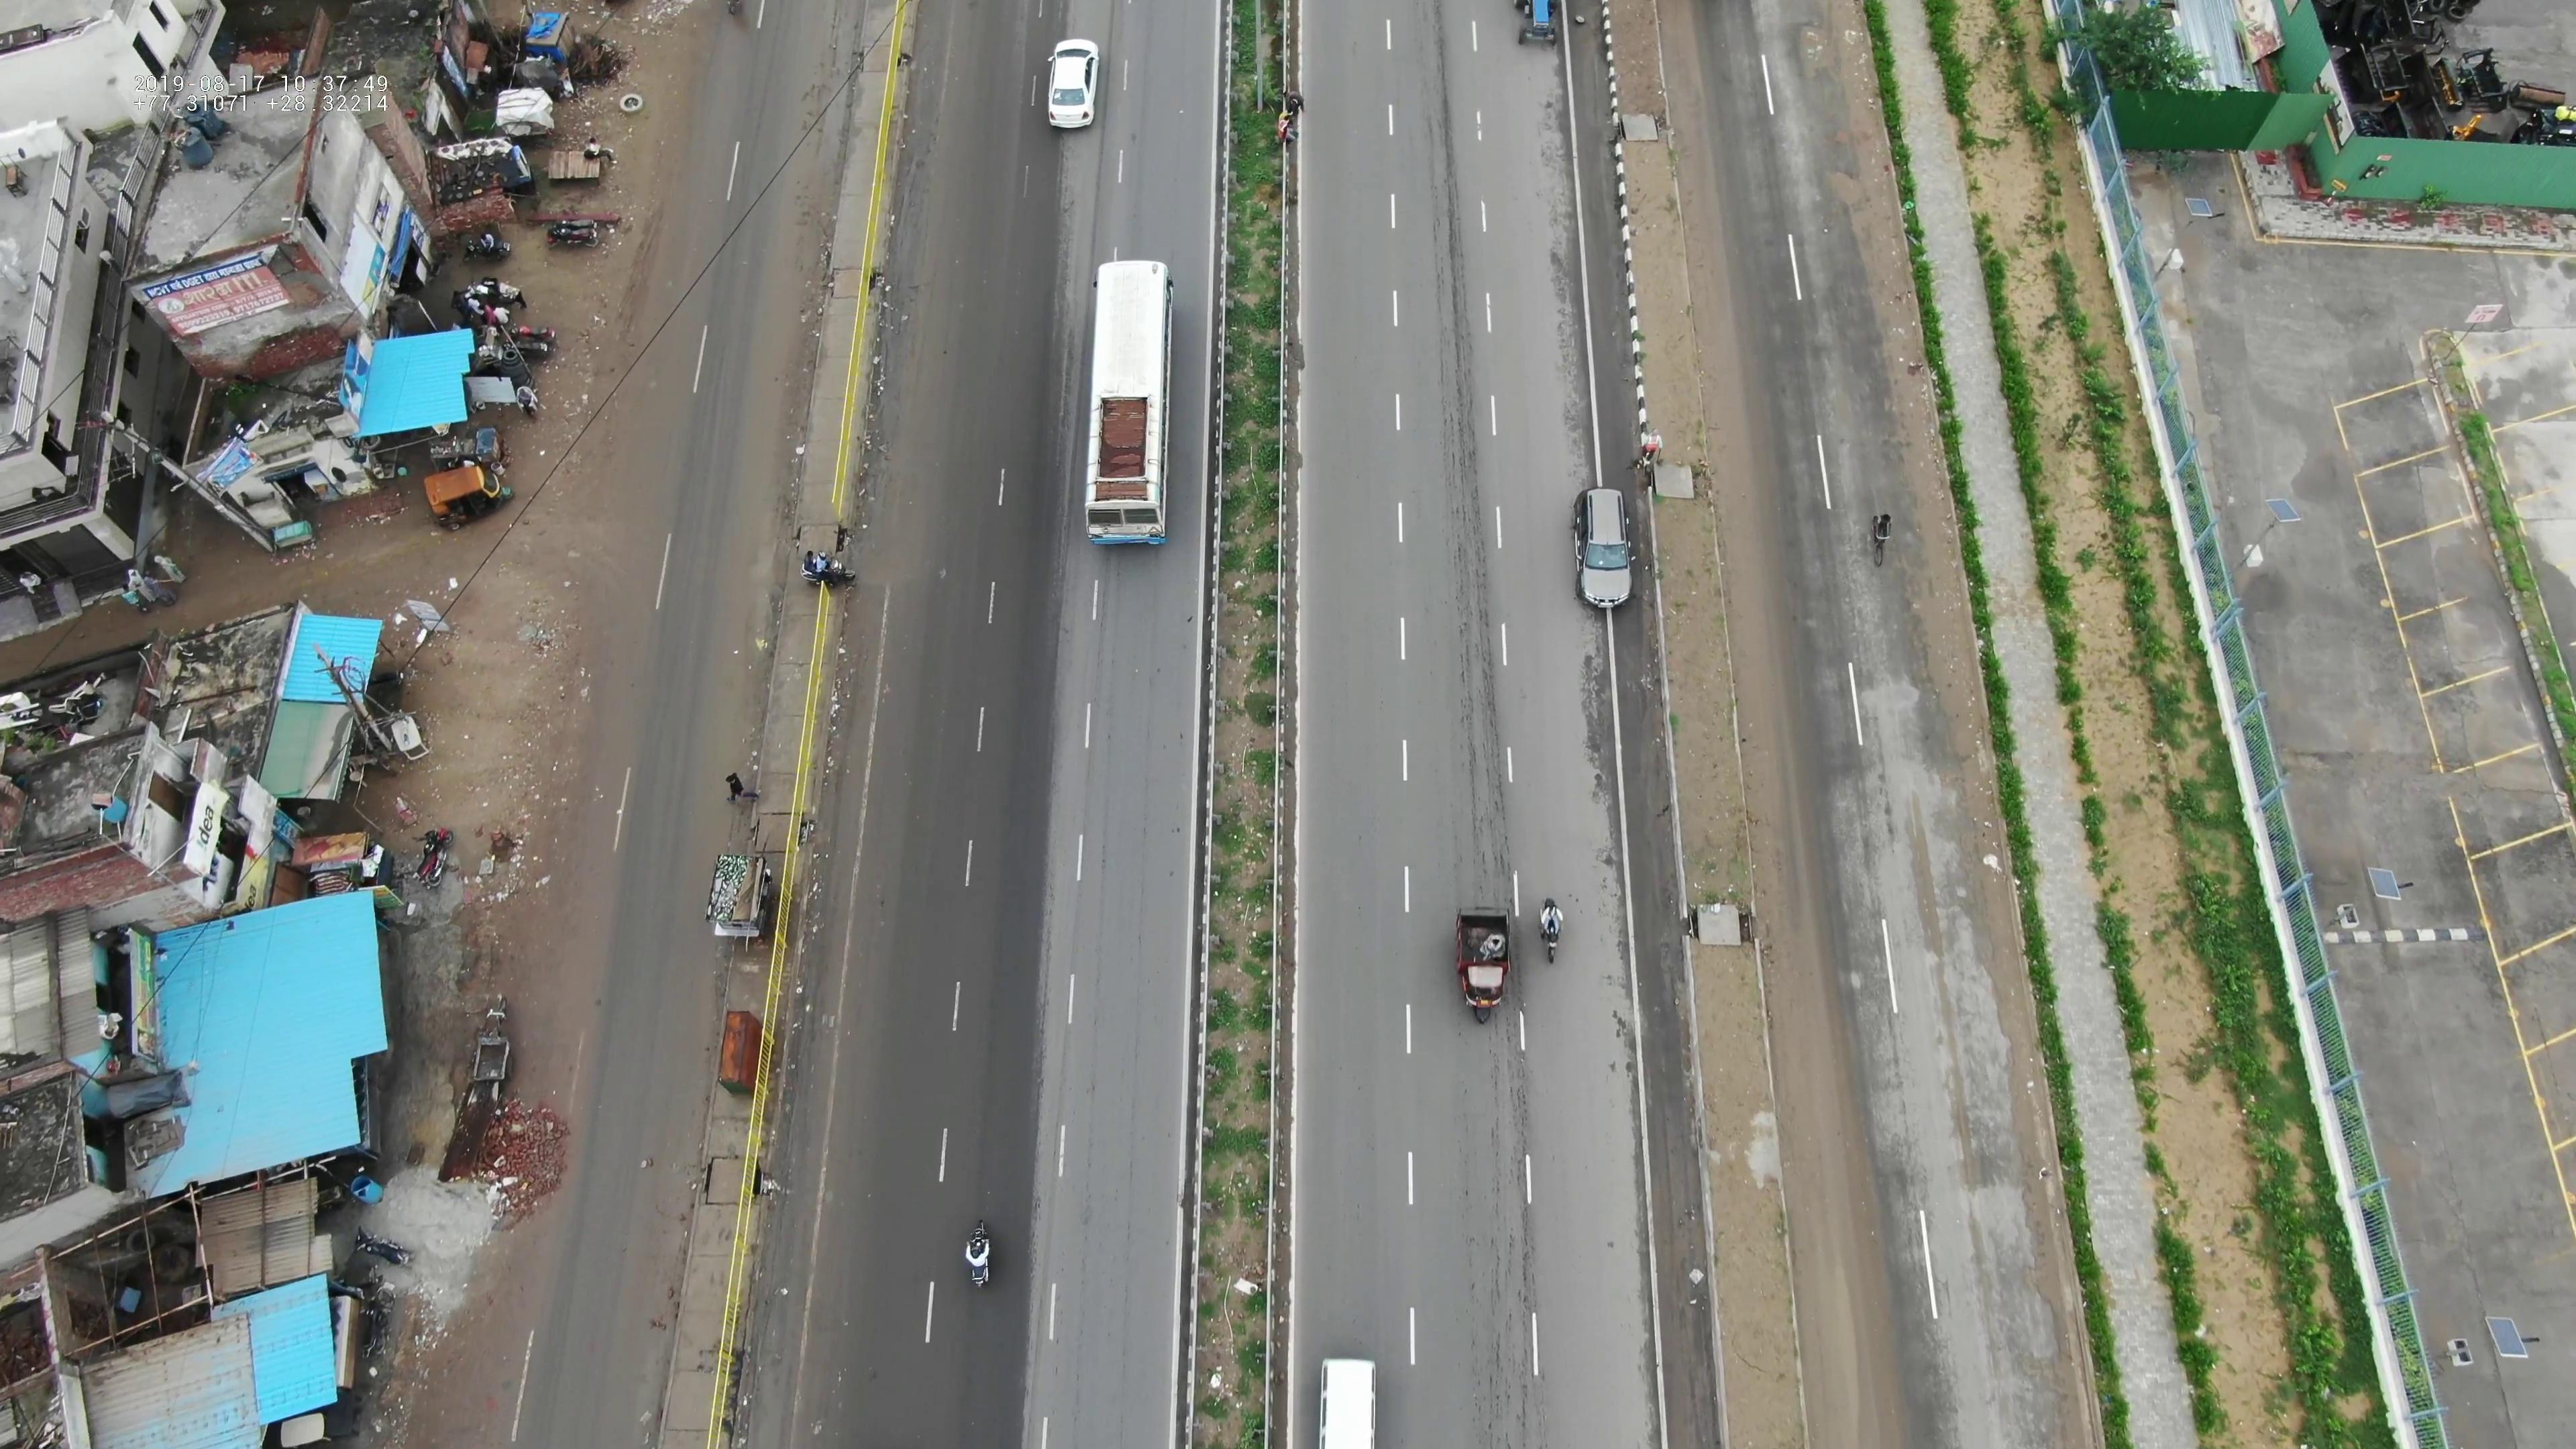Muddy_road: (708, 218, 830, 593), (1660, 16, 1767, 414), (1785, 1122, 1911, 1426), (1707, 433, 1805, 800), (865, 200, 950, 603), (1752, 821, 1867, 1102)
Ravelling: (1461, 1111, 1552, 1426), (1394, 4, 1488, 274), (1444, 571, 1522, 855), (1430, 306, 1493, 536)
